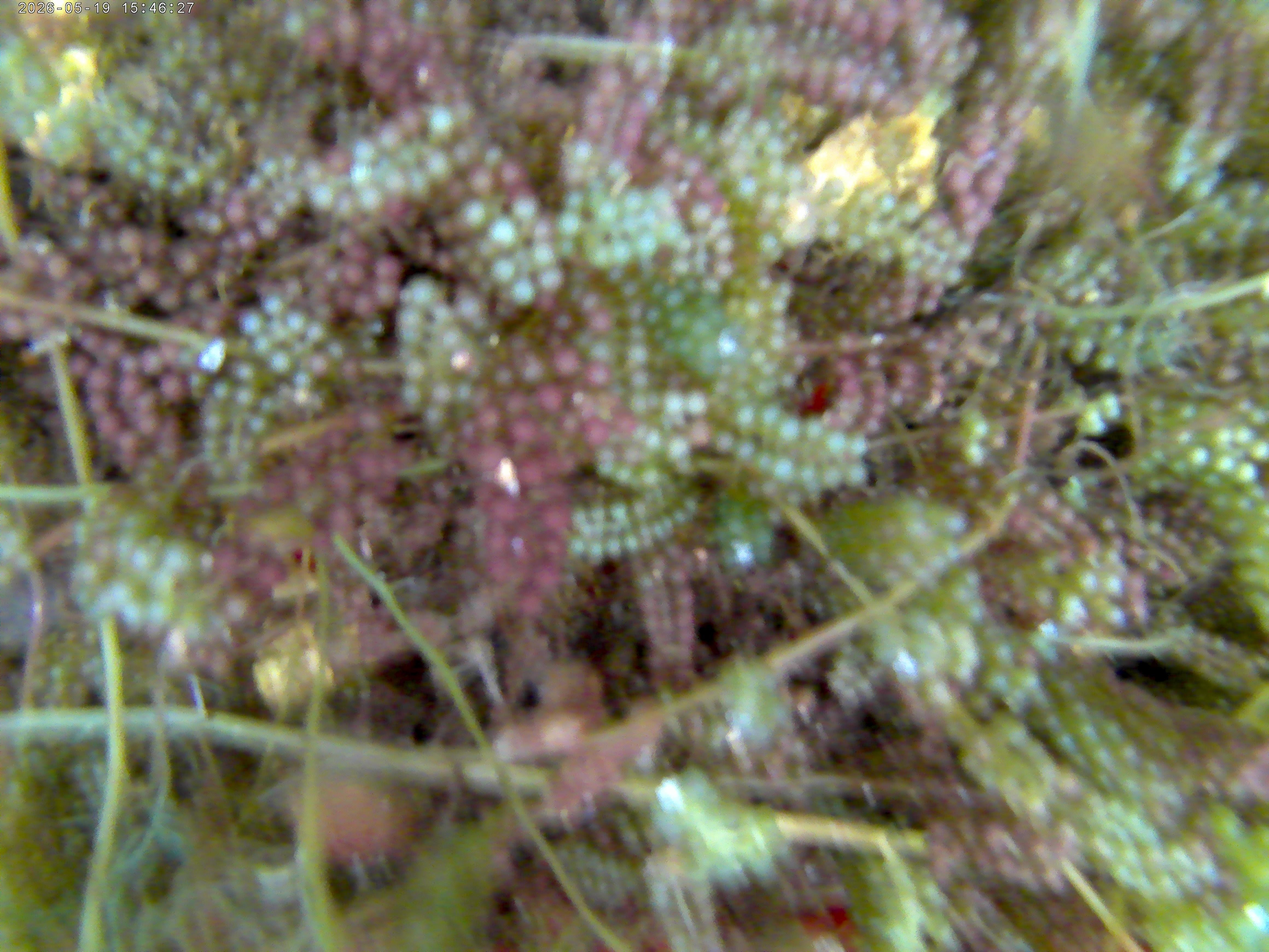Darkening: (505, 415, 543, 447), (943, 160, 973, 198), (518, 451, 546, 491), (398, 104, 428, 141), (322, 149, 359, 178), (978, 163, 1006, 200), (46, 253, 76, 285), (320, 427, 352, 457), (332, 15, 361, 47), (358, 450, 382, 488), (541, 532, 569, 564), (369, 32, 396, 64), (538, 383, 564, 416), (554, 347, 580, 380), (98, 414, 127, 443), (288, 462, 318, 490), (484, 527, 510, 559), (498, 160, 524, 192), (330, 504, 356, 536), (542, 501, 572, 528), (596, 64, 623, 94), (963, 128, 989, 159), (474, 405, 503, 432), (328, 468, 354, 498), (491, 497, 522, 522), (305, 31, 332, 59), (830, 55, 856, 84), (582, 421, 608, 449), (617, 120, 643, 148), (535, 565, 568, 587), (360, 295, 384, 325), (953, 191, 977, 221), (547, 452, 575, 477), (555, 413, 579, 442), (521, 586, 545, 615), (869, 19, 893, 48), (478, 442, 501, 471), (491, 562, 516, 588), (340, 264, 366, 289), (376, 73, 401, 99), (581, 111, 605, 138), (659, 144, 681, 173), (66, 232, 91, 257), (86, 365, 112, 389), (160, 378, 184, 404), (264, 480, 290, 504), (177, 249, 200, 276), (378, 282, 401, 309), (866, 77, 887, 106), (87, 391, 111, 416), (102, 340, 126, 365), (624, 153, 648, 178), (689, 203, 713, 228), (493, 366, 517, 391), (224, 203, 247, 229), (434, 218, 459, 241), (138, 267, 160, 293), (832, 5, 854, 31), (610, 408, 630, 436), (831, 83, 854, 107), (405, 31, 427, 56), (301, 446, 326, 468), (378, 257, 399, 283), (427, 25, 444, 57), (554, 313, 576, 337), (137, 413, 158, 438), (1037, 491, 1058, 516), (588, 362, 607, 389), (79, 332, 102, 354), (118, 376, 141, 398), (473, 482, 497, 503), (591, 93, 615, 114), (382, 454, 400, 482), (848, 14, 867, 40), (240, 227, 258, 254), (470, 171, 491, 194), (877, 6, 900, 27), (536, 293, 557, 316), (841, 379, 862, 401), (714, 234, 735, 256), (623, 300, 644, 322), (69, 356, 89, 379), (803, 74, 823, 97), (1122, 543, 1142, 566), (1125, 571, 1144, 595), (806, 5, 827, 26), (666, 567, 687, 588), (459, 421, 479, 443), (620, 280, 642, 300), (76, 274, 95, 297), (160, 340, 179, 363), (681, 158, 700, 181), (453, 244, 473, 265), (143, 351, 161, 374), (352, 241, 370, 264), (674, 459, 695, 478), (115, 434, 137, 452), (627, 99, 644, 122), (339, 288, 358, 308), (862, 415, 881, 435), (1077, 536, 1096, 556), (639, 594, 659, 613), (435, 251, 454, 271), (123, 353, 141, 374), (697, 176, 713, 199), (677, 609, 695, 629), (1058, 507, 1072, 532), (896, 375, 915, 393), (715, 260, 733, 278), (869, 401, 888, 418), (835, 360, 854, 377), (676, 589, 692, 609), (896, 359, 917, 374), (220, 236, 238, 253), (1071, 519, 1088, 537), (679, 630, 697, 647), (887, 390, 903, 409), (641, 616, 659, 632), (114, 452, 134, 465), (870, 386, 887, 401), (343, 232, 358, 248)
Harvestable: (1207, 806, 1245, 846), (996, 716, 1031, 751), (1150, 871, 1183, 907), (981, 664, 1015, 697), (405, 275, 438, 309), (1010, 663, 1043, 695), (753, 229, 783, 261), (487, 219, 517, 249), (72, 557, 103, 586), (988, 637, 1016, 667), (144, 143, 172, 172), (188, 86, 215, 116), (282, 10, 309, 40), (1004, 686, 1031, 716), (1118, 768, 1145, 798), (966, 690, 994, 718), (772, 455, 799, 483), (554, 212, 582, 239), (961, 441, 989, 468), (1089, 742, 1117, 769), (1053, 728, 1079, 756), (823, 430, 849, 457), (132, 114, 159, 140), (1161, 167, 1188, 193), (1193, 226, 1218, 254), (464, 204, 490, 230), (657, 217, 683, 243), (1185, 445, 1211, 471), (962, 599, 988, 625), (1238, 179, 1264, 205), (941, 510, 967, 536), (423, 405, 449, 431), (427, 154, 452, 181), (1118, 843, 1143, 870), (609, 239, 634, 266), (1198, 860, 1223, 887), (589, 338, 616, 363), (1075, 719, 1099, 747), (106, 143, 132, 168), (1100, 717, 1125, 743), (1209, 426, 1234, 452), (642, 430, 667, 456), (352, 139, 378, 164), (1104, 792, 1128, 819), (637, 465, 662, 490), (1229, 492, 1254, 517), (666, 310, 691, 335), (404, 358, 429, 383), (666, 435, 692, 459), (515, 198, 539, 224), (1168, 455, 1192, 481), (1186, 179, 1212, 203), (408, 172, 431, 199), (845, 462, 867, 490), (1208, 490, 1233, 514), (1074, 572, 1099, 596), (1174, 400, 1199, 424), (1116, 741, 1140, 766), (1100, 603, 1125, 627), (399, 307, 424, 331), (967, 416, 992, 440), (950, 583, 975, 607), (130, 548, 156, 571), (777, 418, 799, 445), (753, 377, 777, 401), (1235, 213, 1259, 237), (204, 410, 228, 434), (869, 242, 894, 265), (533, 244, 556, 269), (491, 258, 516, 281), (1235, 461, 1258, 486), (242, 311, 265, 336), (14, 550, 39, 573), (1071, 335, 1094, 360), (758, 402, 778, 430), (663, 287, 686, 311), (627, 343, 651, 366), (248, 414, 271, 438), (1212, 453, 1236, 476), (663, 392, 686, 416), (235, 385, 258, 409), (350, 163, 373, 187), (691, 121, 714, 145), (1132, 455, 1156, 478), (402, 383, 426, 406), (735, 179, 758, 202), (1101, 573, 1124, 596), (184, 166, 207, 189), (431, 382, 454, 405), (896, 546, 919, 569), (1208, 193, 1231, 216), (539, 268, 561, 292), (126, 158, 148, 182), (95, 125, 117, 149), (734, 438, 756, 462), (1223, 516, 1247, 538), (1143, 393, 1167, 415), (961, 473, 985, 495), (734, 404, 754, 430), (783, 222, 803, 248), (753, 451, 775, 474), (268, 352, 291, 374), (760, 195, 782, 218), (791, 171, 814, 193), (644, 304, 666, 327), (1233, 426, 1256, 448), (212, 379, 234, 402), (628, 393, 650, 416), (159, 125, 182, 147), (764, 135, 785, 159), (763, 161, 787, 182), (598, 204, 622, 225), (72, 520, 93, 544), (688, 392, 708, 417), (954, 239, 973, 265), (639, 233, 657, 260), (611, 462, 633, 484), (147, 170, 169, 192), (122, 603, 144, 625), (1056, 677, 1078, 699), (1041, 48, 1063, 70), (252, 335, 273, 358), (235, 360, 256, 383), (483, 144, 504, 167), (701, 140, 722, 163), (798, 463, 818, 487), (1249, 439, 1269, 463), (822, 467, 843, 489), (895, 234, 917, 255), (564, 192, 586, 213), (701, 277, 723, 298), (690, 318, 712, 339), (753, 526, 774, 548), (698, 341, 719, 363), (286, 311, 306, 334), (644, 390, 664, 413), (716, 430, 734, 455), (622, 193, 643, 214), (630, 370, 651, 391), (1248, 407, 1269, 428), (676, 337, 697, 358), (50, 662, 71, 683), (805, 419, 825, 441), (514, 283, 533, 306), (1250, 327, 1269, 350), (1095, 351, 1116, 371), (671, 257, 691, 278), (1247, 483, 1267, 504), (767, 333, 787, 354), (1148, 445, 1168, 466), (912, 565, 933, 585), (1200, 472, 1222, 491), (904, 201, 922, 224), (628, 323, 648, 343), (260, 396, 280, 416), (746, 62, 766, 82), (1093, 770, 1113, 790), (306, 323, 325, 344), (325, 341, 346, 360), (284, 187, 303, 208), (760, 480, 779, 501), (569, 537, 586, 560), (876, 194, 895, 214), (649, 280, 668, 300), (939, 228, 958, 248), (1068, 699, 1088, 718), (633, 501, 652, 521), (661, 514, 675, 541), (266, 298, 287, 316), (639, 526, 654, 551), (593, 461, 615, 478), (829, 179, 846, 201), (865, 220, 884, 239), (731, 385, 750, 404), (293, 372, 312, 391), (1175, 429, 1194, 448), (1154, 240, 1173, 259), (944, 269, 962, 289), (844, 234, 864, 252), (904, 256, 924, 274), (1239, 300, 1259, 318), (530, 222, 551, 239), (856, 188, 874, 207), (682, 277, 700, 296), (1104, 323, 1123, 341), (850, 437, 867, 457), (623, 533, 640, 553), (608, 501, 624, 522), (587, 190, 608, 206), (1235, 398, 1253, 416), (570, 510, 588, 527), (596, 444, 613, 462), (673, 510, 691, 527), (559, 240, 576, 258), (587, 540, 604, 558), (925, 264, 943, 281), (1072, 752, 1089, 770), (760, 361, 778, 378), (624, 446, 642, 463), (0, 566, 14, 587), (750, 349, 767, 366), (714, 380, 731, 397), (652, 326, 668, 344), (1256, 501, 1269, 523), (605, 537, 620, 556), (922, 220, 937, 239), (737, 367, 753, 384), (825, 223, 840, 241), (770, 318, 786, 334), (719, 363, 735, 379), (753, 122, 771, 136), (1256, 521, 1269, 539), (634, 426, 646, 444), (1259, 213, 1269, 233), (653, 519, 662, 541), (592, 508, 605, 522), (936, 250, 949, 264), (685, 498, 696, 513)
